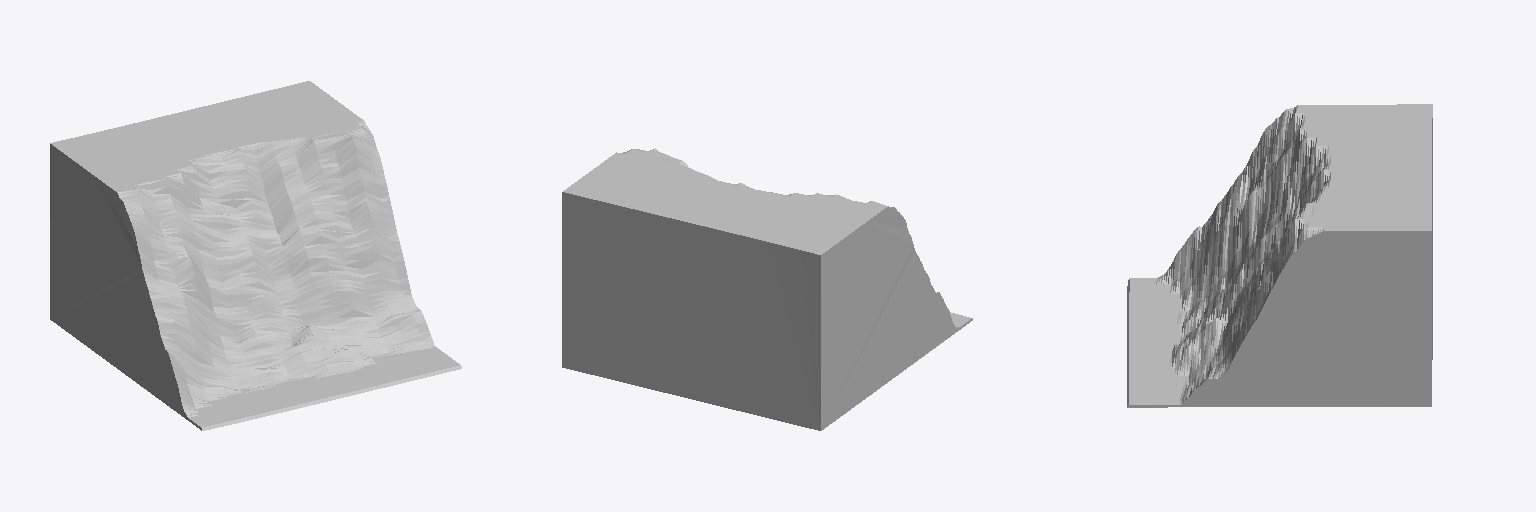
Rendered from F2Clliff.obj.
The picture shows the model from 3 angles: view 1: azimuth 30°, elevation 25°; view 2: azimuth 150°, elevation 25°; view 3: azimuth 270°, elevation 25°; orthographic projection.
Parts seen in each view (by area): view 1: Cliff_Segment_8_Landscape.015; view 2: Cliff_Segment_8_Landscape.015; view 3: Cliff_Segment_8_Landscape.015.
Boxes of the visible parts, box(x1,y1,x2,y2) form: Cliff_Segment_8_Landscape.015: box(50, 81, 461, 430); Cliff_Segment_8_Landscape.015: box(562, 148, 972, 430); Cliff_Segment_8_Landscape.015: box(1127, 104, 1432, 407).
Size of the model in its own units: 1.96 by 1.28 by 2.01.